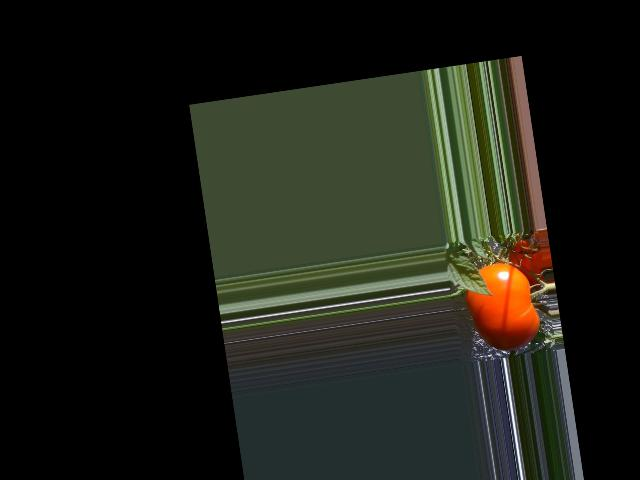tomato: (461, 258, 543, 355)
